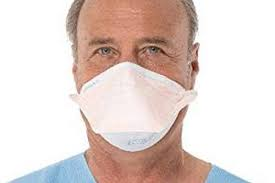mask: (71, 1, 193, 157)
